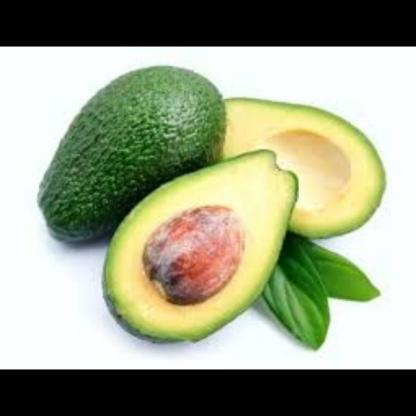avocado: (98, 145, 304, 354), (29, 57, 235, 254), (190, 88, 396, 223)
